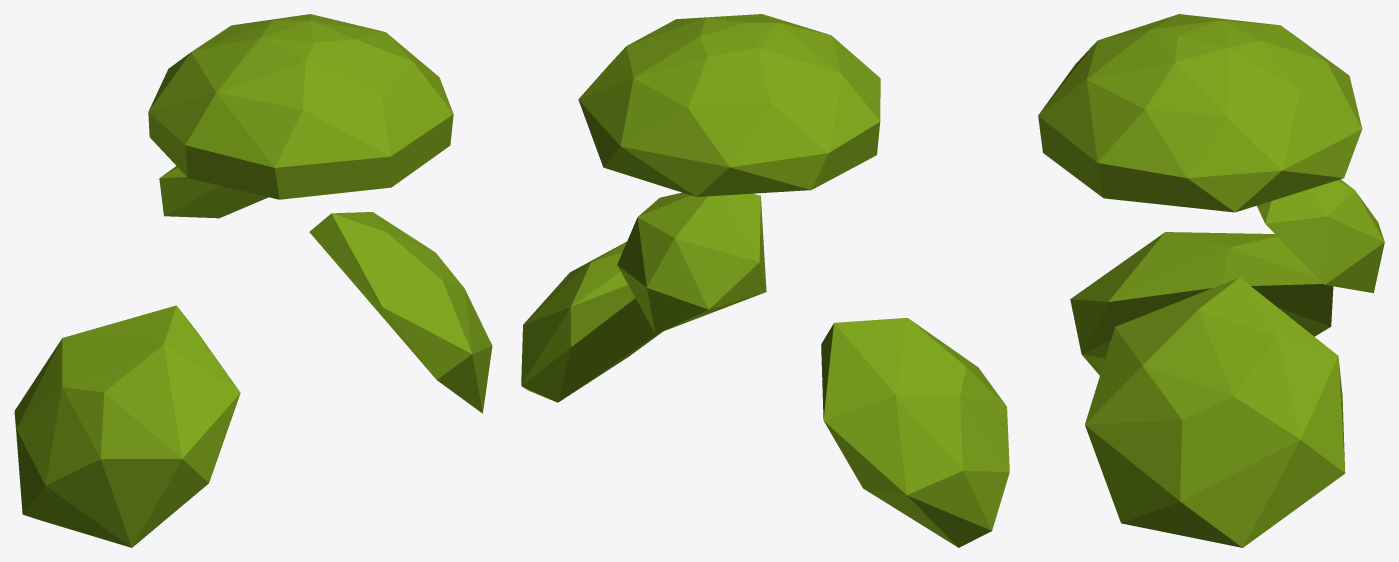
Rendered from tree-summer-leaves-003.glb.
The picture shows the model from 3 angles, left to right: view 1: azimuth 30°, elevation 25°; view 2: azimuth 150°, elevation 25°; view 3: azimuth 270°, elevation 25°; orthographic projection. The views are drawn at different scales.
Visible parts, largest first — view 1: Circle.004_222; view 2: Circle.004_222; view 3: Circle.004_222.
Part boxes in pixels (left/top/right/bottom): Circle.004_222: left=14, top=14, right=492, bottom=547; Circle.004_222: left=521, top=14, right=1009, bottom=547; Circle.004_222: left=1038, top=14, right=1384, bottom=547.
Bounding box in the file's own units: 1 × 0.9296 × 0.6198.
